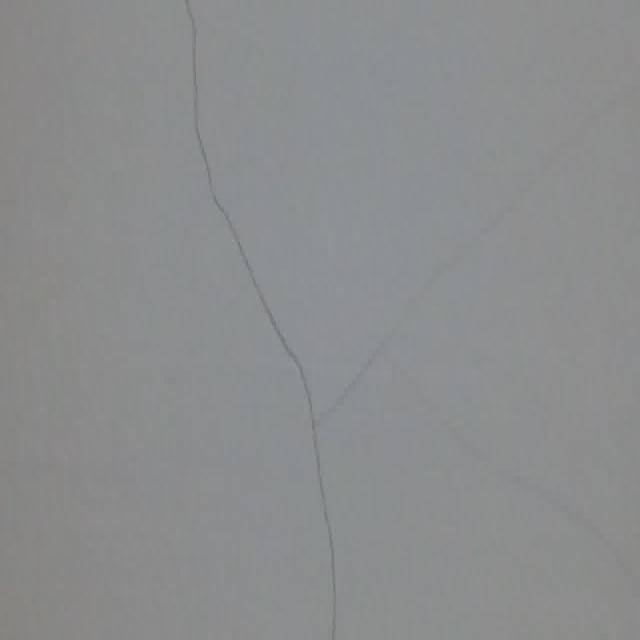Crack: (168, 0, 350, 636)
